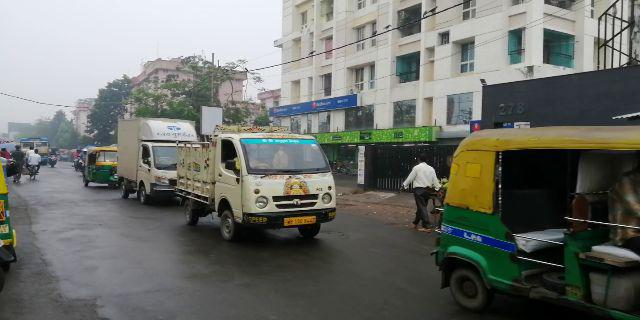Autorickshaw: (434, 127, 640, 309), (82, 148, 114, 184)
Minitruck: (178, 129, 338, 241), (120, 117, 176, 203)
